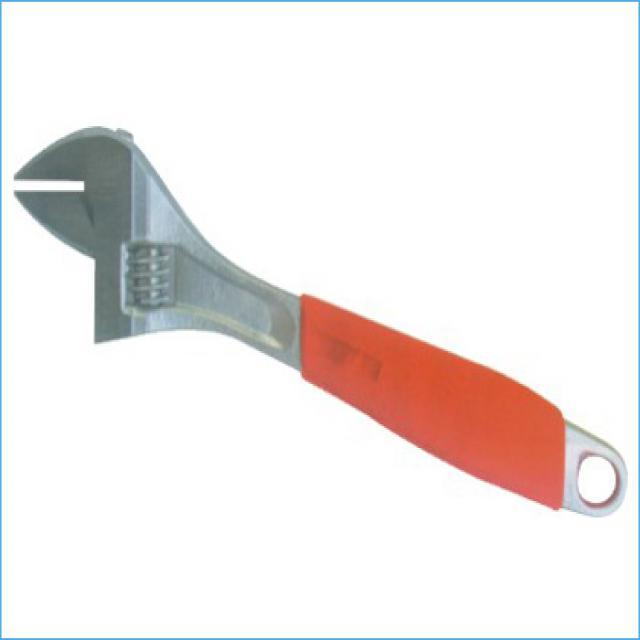wrench: (0, 116, 632, 530)
